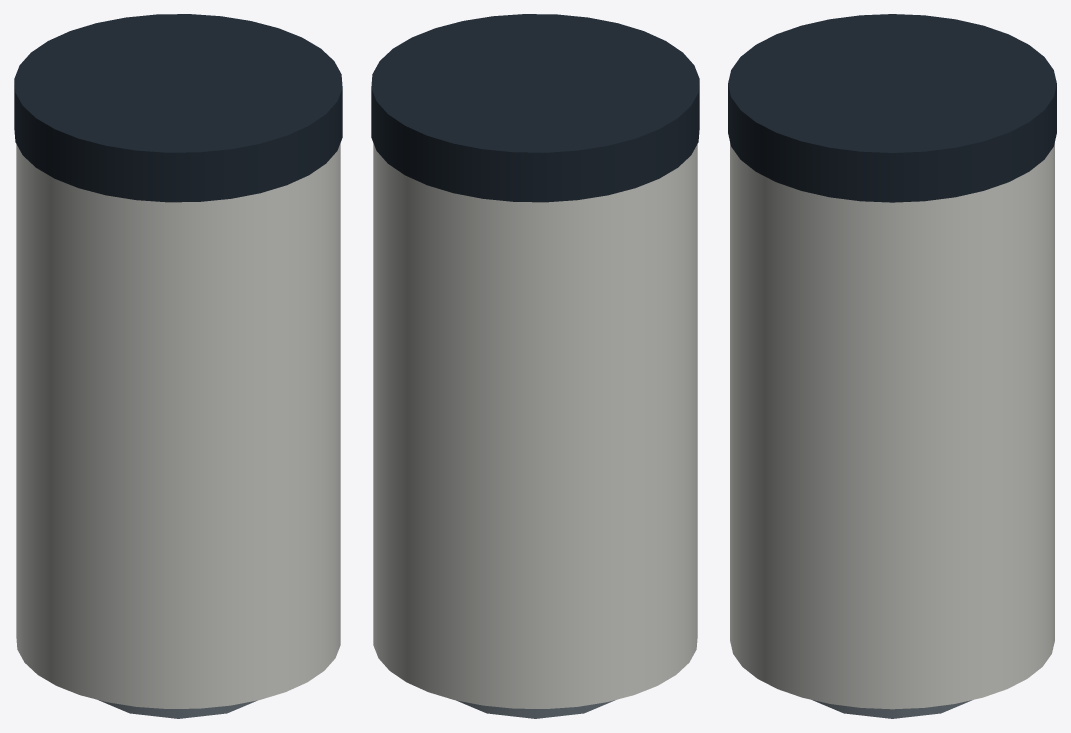
File: ariane6-stage-2.glb
3 views of the same model, side by side, from view 1: azimuth 30°, elevation 25°; view 2: azimuth 150°, elevation 25°; view 3: azimuth 270°, elevation 25° (orthographic).
Parts seen in each view (by area): view 1: body-1, interstage-1, engine-1-0; view 2: body-1, interstage-1, engine-1-0; view 3: body-1, interstage-1, engine-1-0.
Part boxes in pixels (<box>): body-1: <box>16,143,340,708</box>; interstage-1: <box>14,14,342,202</box>; engine-1-0: <box>98,700,257,718</box>; body-1: <box>373,143,697,708</box>; interstage-1: <box>371,14,699,202</box>; engine-1-0: <box>456,700,615,718</box>; body-1: <box>730,142,1054,709</box>; interstage-1: <box>728,14,1056,202</box>; engine-1-0: <box>812,700,972,718</box>.
Size of the model in its own units: 5.46 by 10.89 by 5.46.
